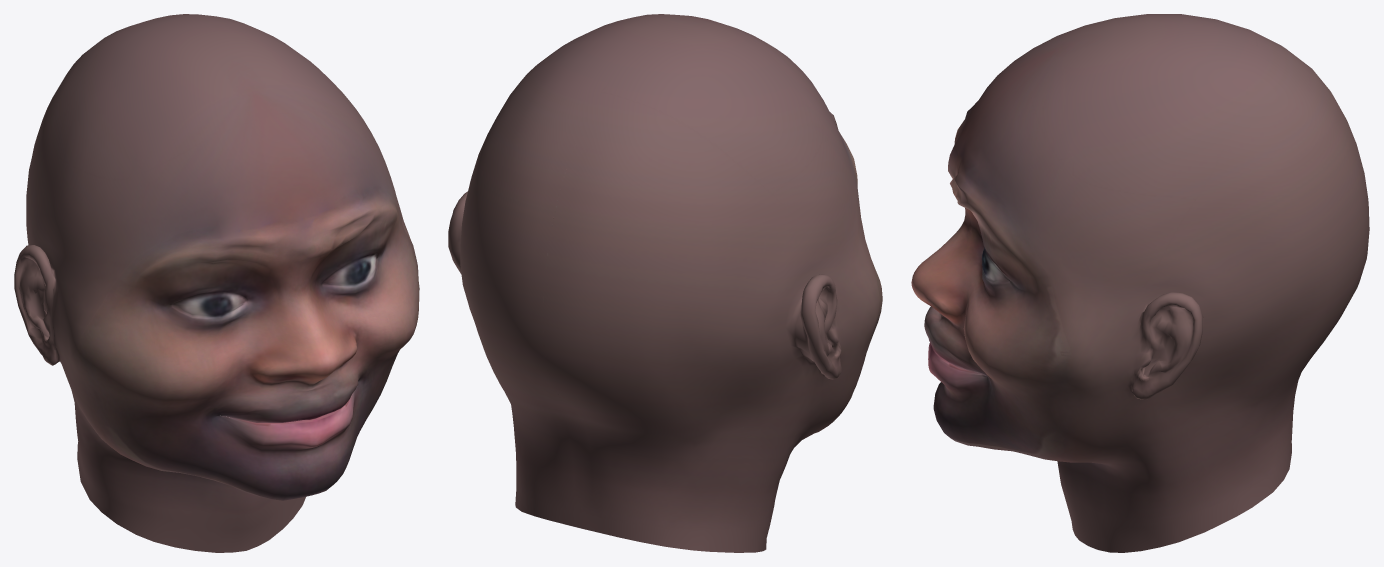
Rendered from EDP445HEAD.fbx.
3 views of the same model, side by side, from view 1: azimuth 30°, elevation 25°; view 2: azimuth 150°, elevation 25°; view 3: azimuth 270°, elevation 25° (orthographic). The views are drawn at different scales.
Visible parts, largest first — view 1: HeadHires; view 2: HeadHires; view 3: HeadHires.
Part boxes in pixels (left/top/right/bottom): HeadHires: left=14, top=14, right=419, bottom=552; HeadHires: left=448, top=14, right=882, bottom=552; HeadHires: left=911, top=14, right=1369, bottom=552.
Size of the model in its own units: 21.03 by 28.33 by 23.5.
Materials: 1 (1 with a texture image).
